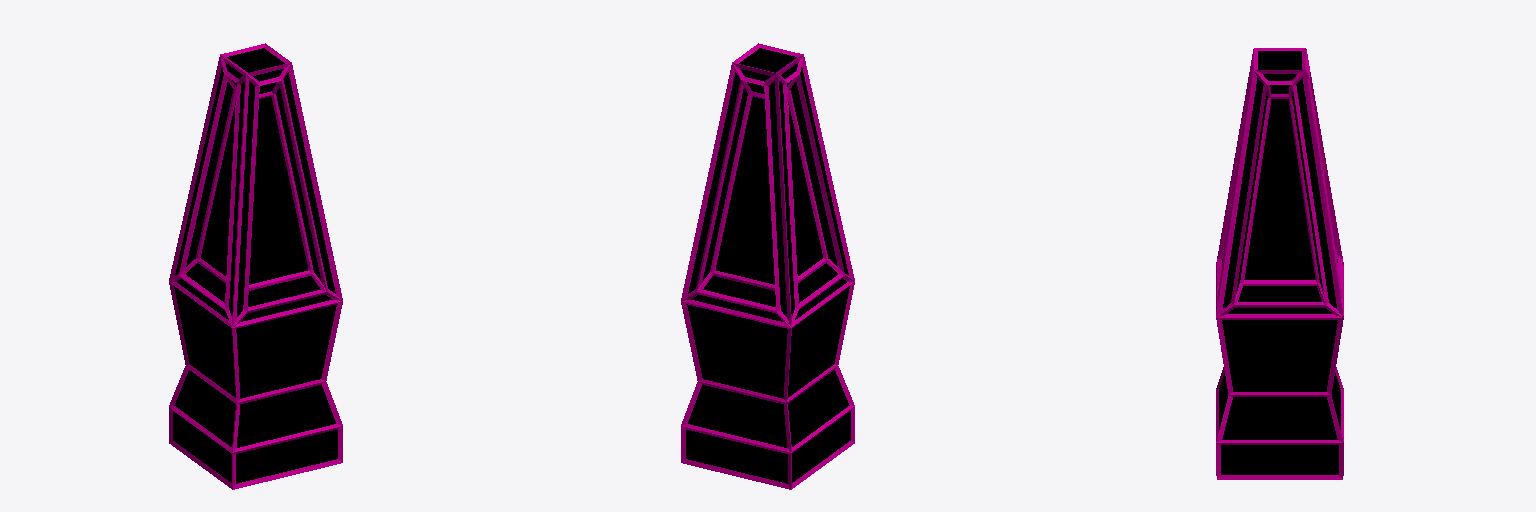
Rendered from pillar.obj.
The picture shows the model from 3 angles: view 1: azimuth 30°, elevation 25°; view 2: azimuth 150°, elevation 25°; view 3: azimuth 270°, elevation 25°; orthographic projection.
Parts seen in each view (by area): view 1: Cube, Cube.001; view 2: Cube, Cube.001; view 3: Cube, Cube.001.
Boxes of the visible parts, x1,y1,x2,y2 form: Cube: [173, 48, 337, 483]; Cube.001: [169, 43, 342, 489]; Cube: [686, 48, 850, 483]; Cube.001: [681, 43, 854, 489]; Cube: [1219, 51, 1340, 474]; Cube.001: [1216, 48, 1343, 479].
Bounding box in the file's own units: 2.07 × 7.06 × 2.07.